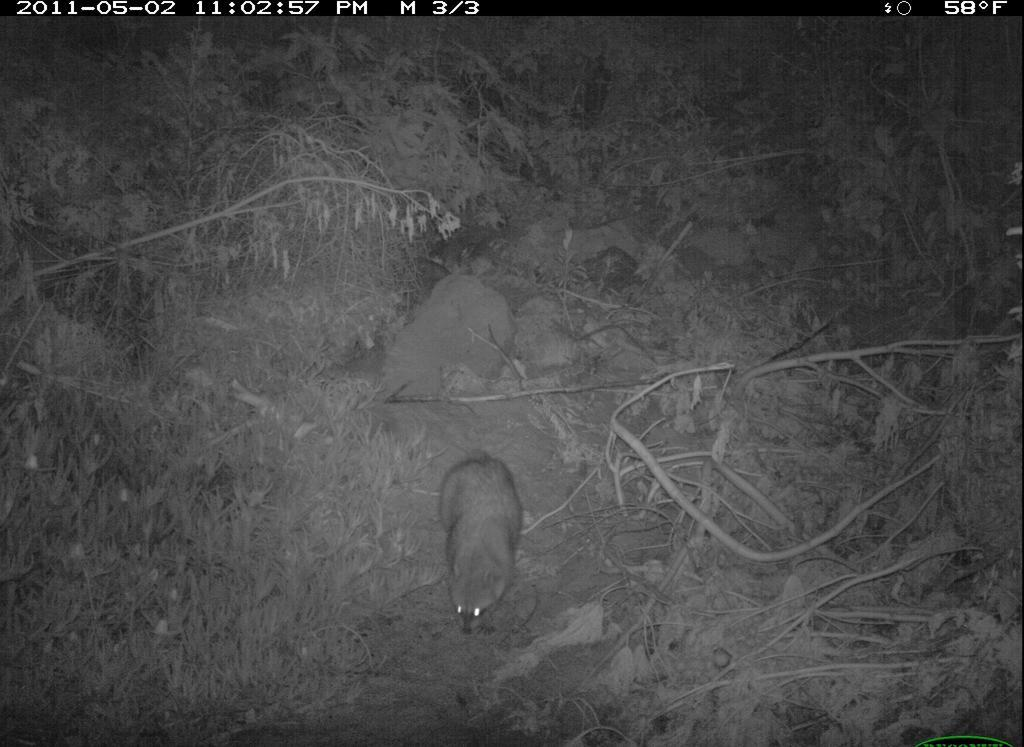raccoon: (420, 436, 534, 634)
